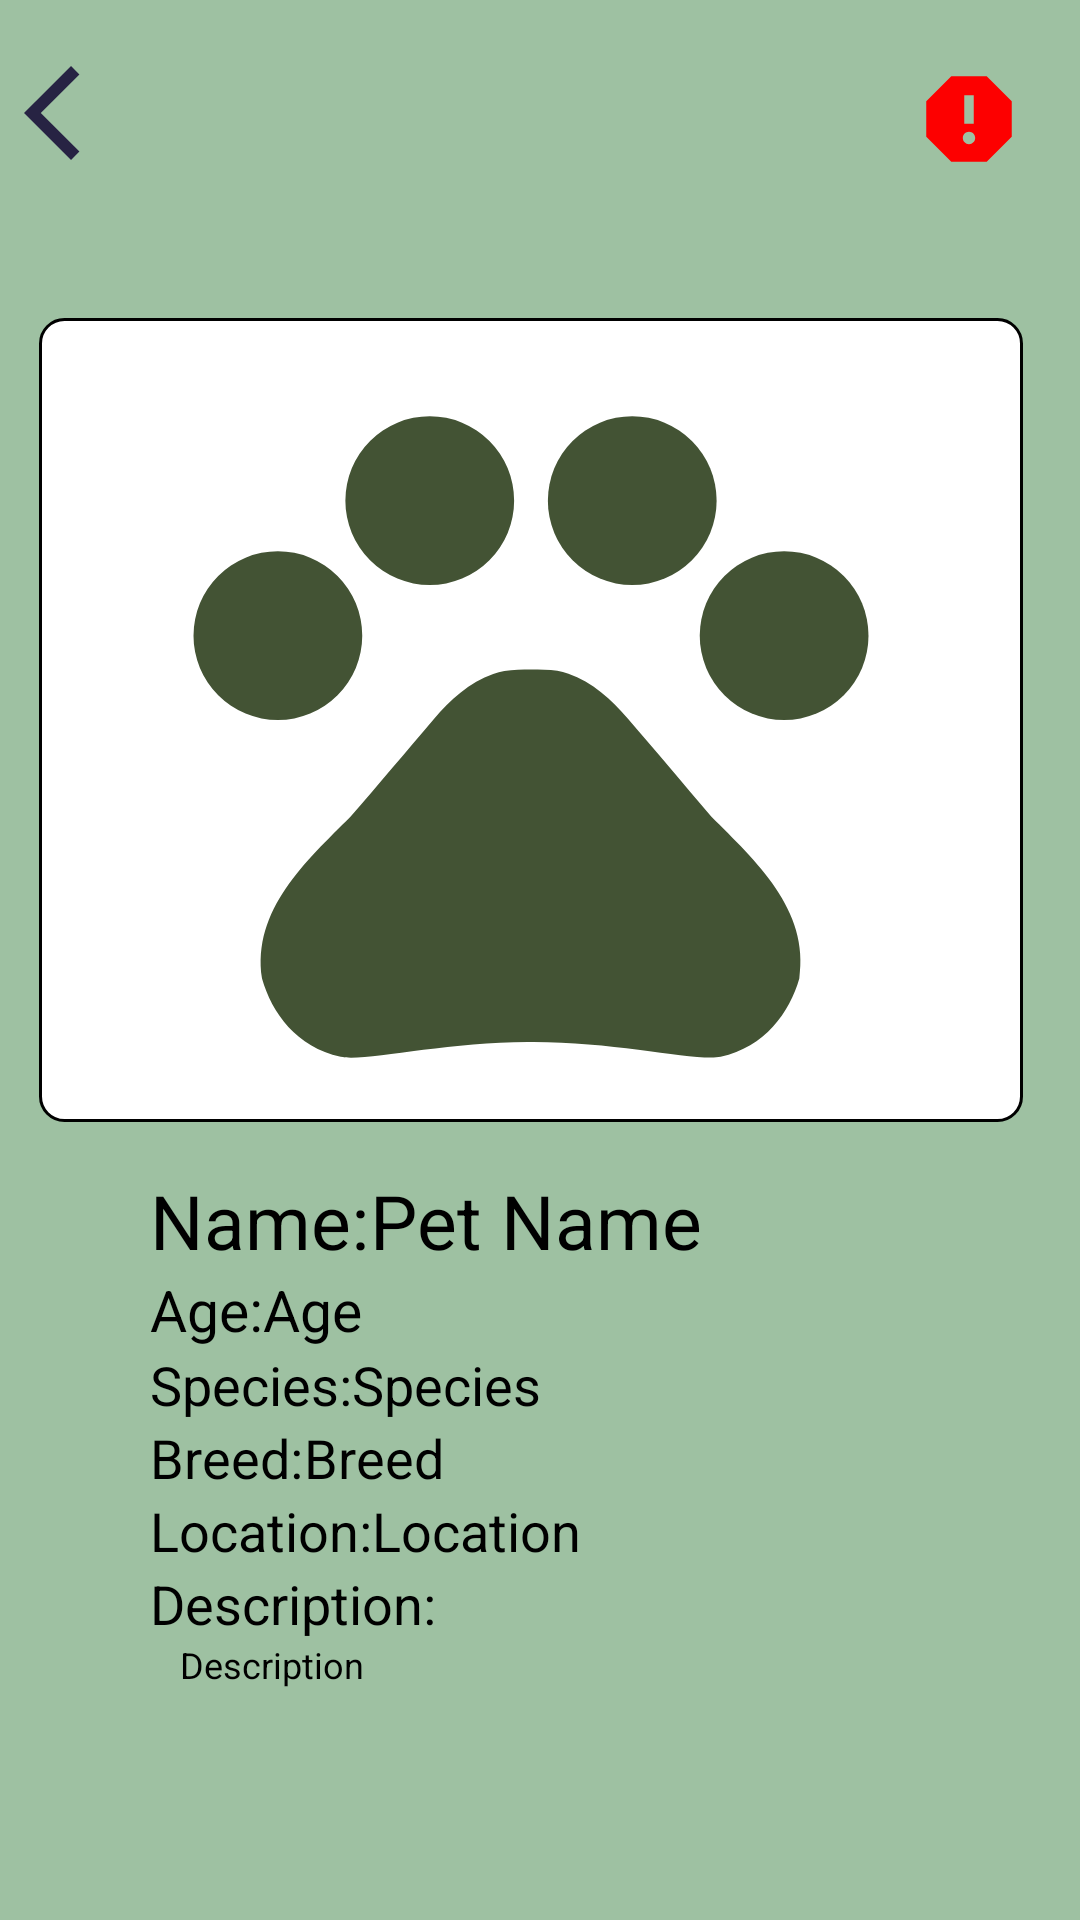

Icons on this 1080px x 1920px Android screen, each with its box as (x1, y1, x2, y2):
report: (926, 76, 1012, 162)
